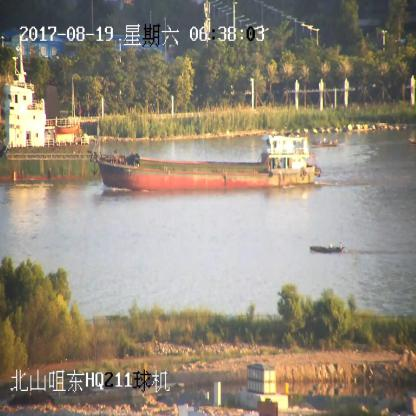Bulk Carrier: (96, 133, 320, 189), (0, 57, 94, 181)
